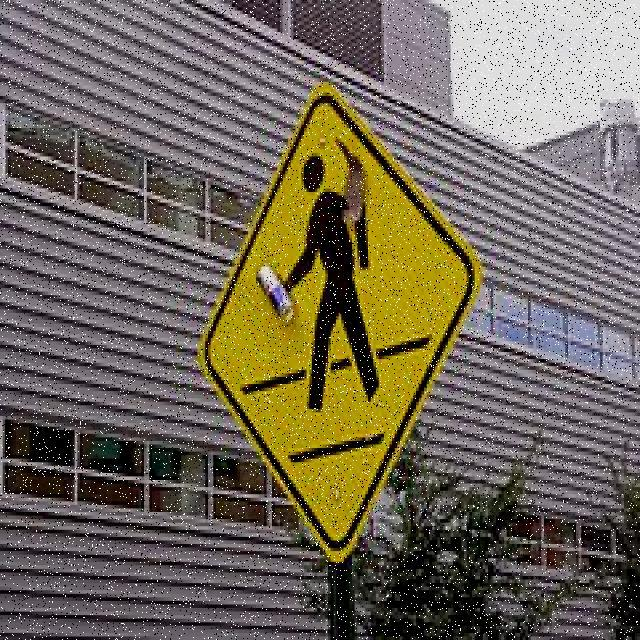Traffic sign: (189, 76, 490, 568)
